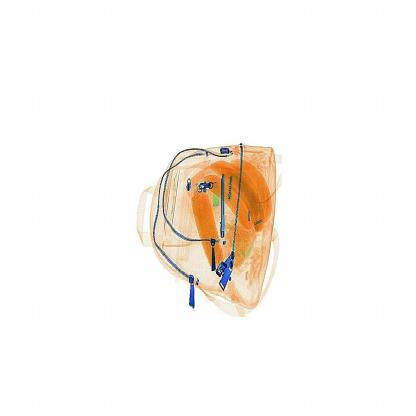pliers: (214, 171, 235, 251)
